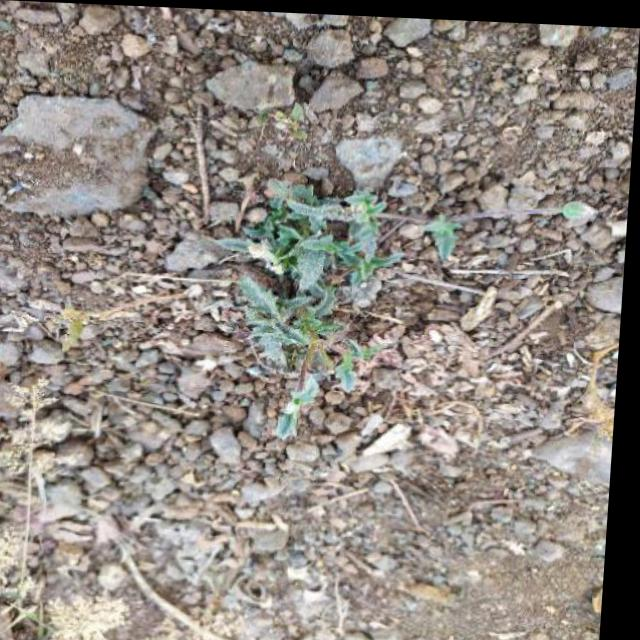weed: (229, 169, 473, 393)
